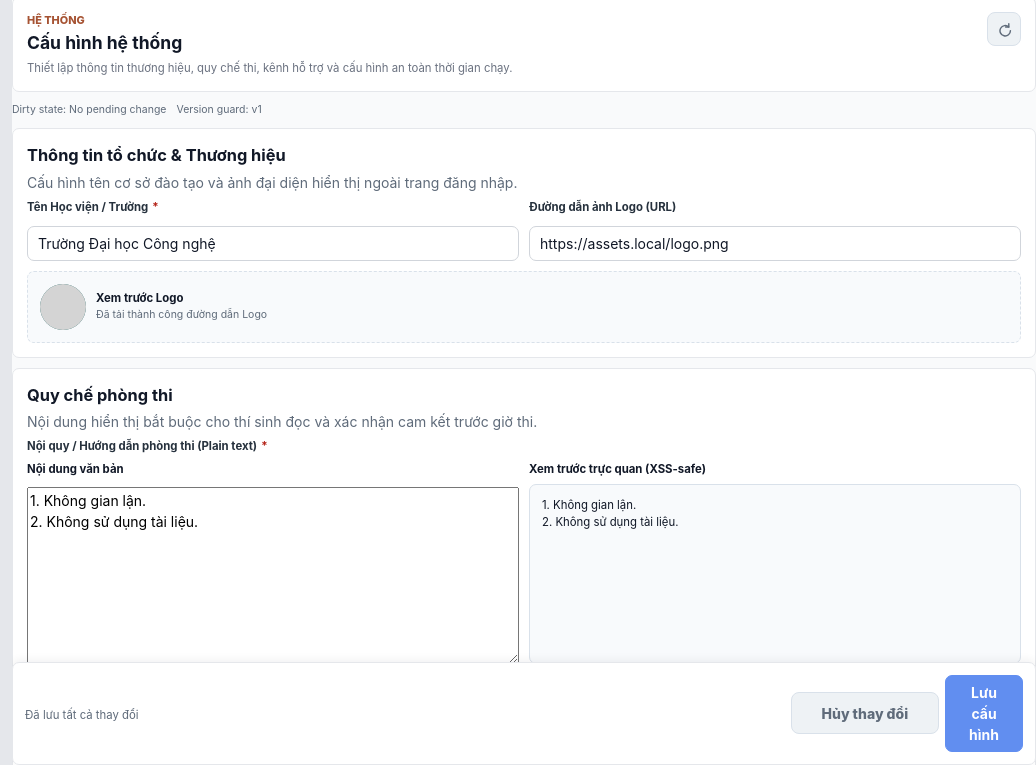
Test: SettingsPage UI and validations › backend validation error maps field errors after save attempt
Replace the text in the field labelled "Tên Học viện / Trường *" with "Trường Đại học Công nghệ Mới" at (273, 243), box [27, 226, 519, 261]
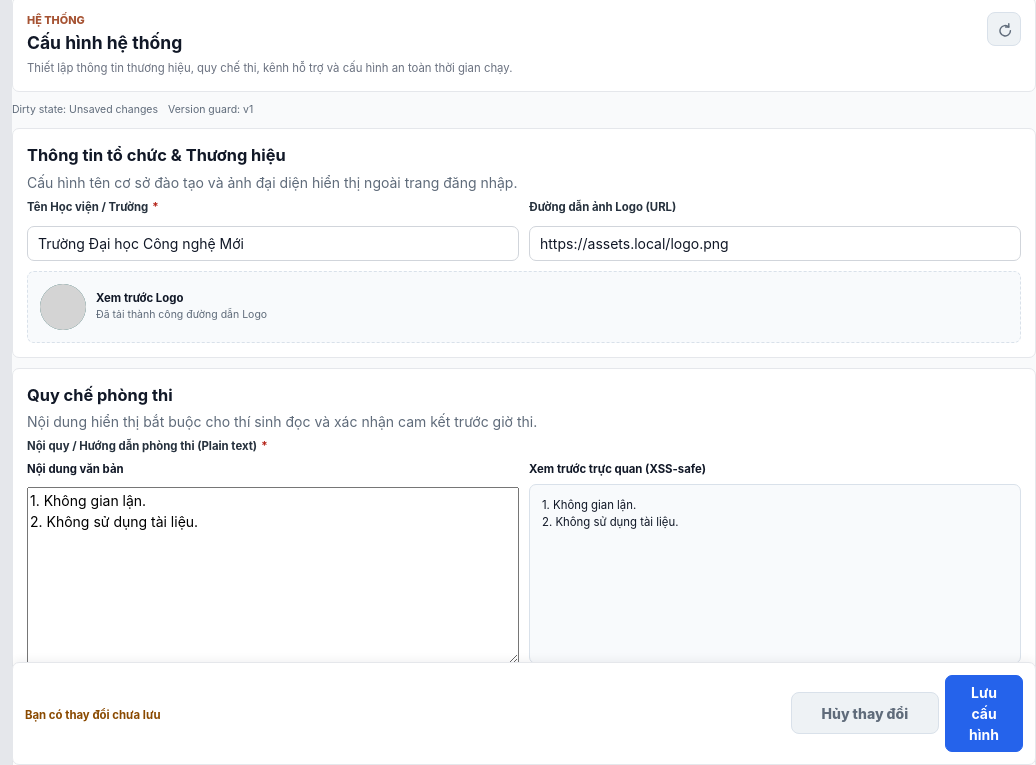
Click the button "Lưu cấu hình" at (984, 714), box [945, 675, 1023, 752]
(page scrolled)
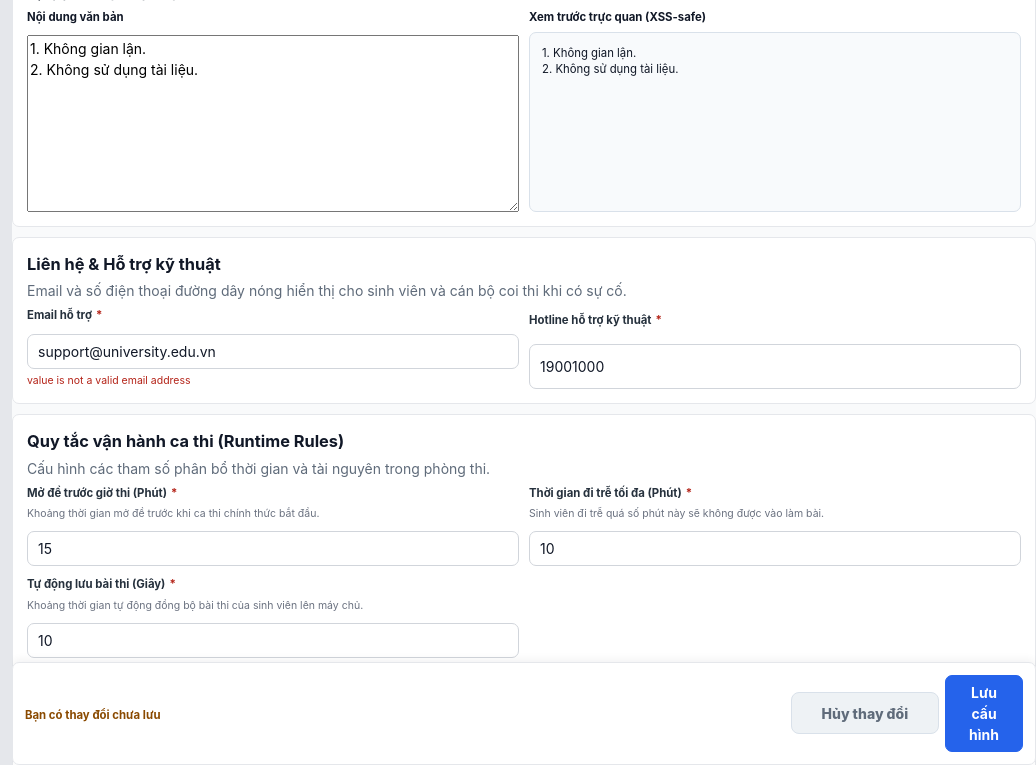
Now the text "value is not a valid email address" is shown, box [27, 374, 191, 387]
